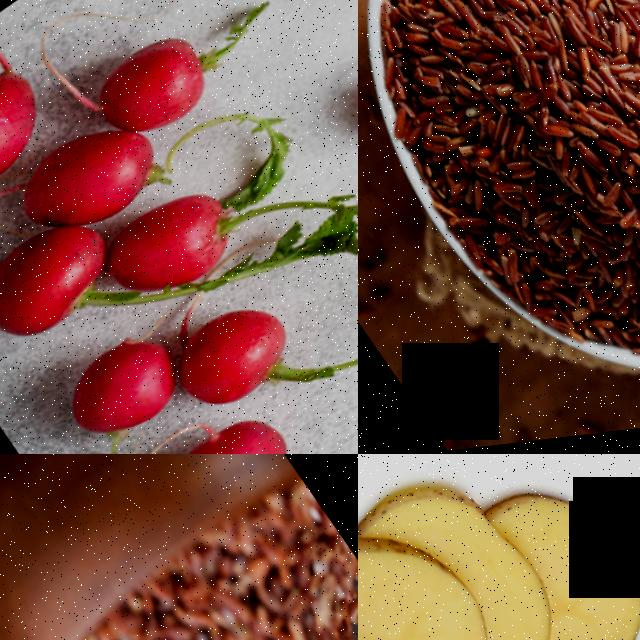potato: (358, 478, 527, 640)
red rice: (358, 0, 640, 452), (58, 487, 358, 640)
spinach: (86, 167, 276, 333), (139, 277, 317, 450), (0, 110, 175, 270), (72, 17, 240, 169), (28, 321, 190, 454), (0, 218, 115, 370), (0, 45, 71, 222), (128, 401, 311, 454)
